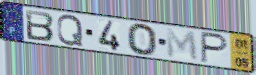4: (97, 19, 123, 53)
B: (24, 8, 56, 42)
M: (165, 27, 200, 63)
O: (125, 23, 159, 57)
P: (200, 31, 230, 66)
Q: (55, 14, 84, 48)
